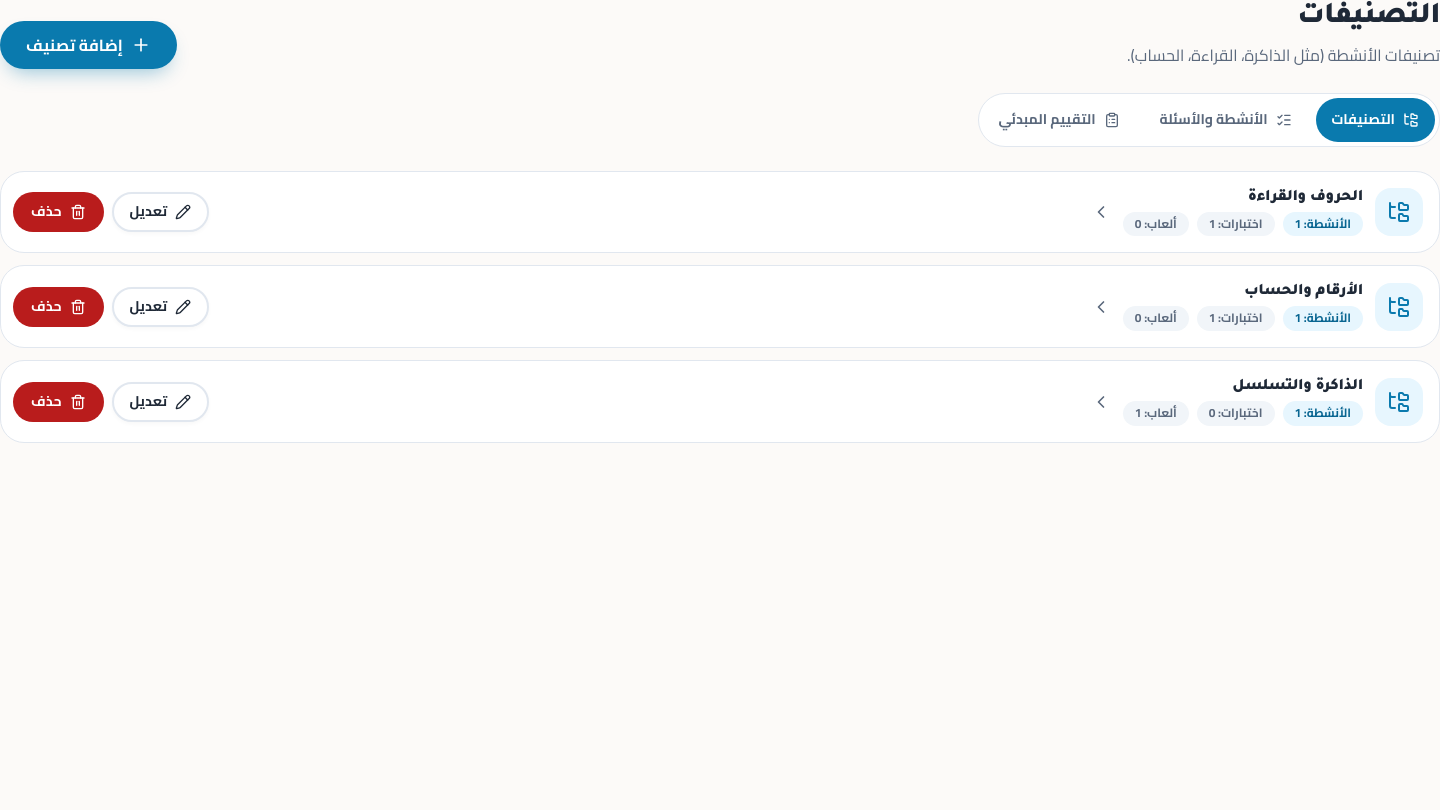
CategoriesPage › deletes only after confirmation
Step 1. Click the button with aria-label "حذف التصنيف الذاكرة والتسلسل" → (58, 402), box [13, 382, 104, 422]
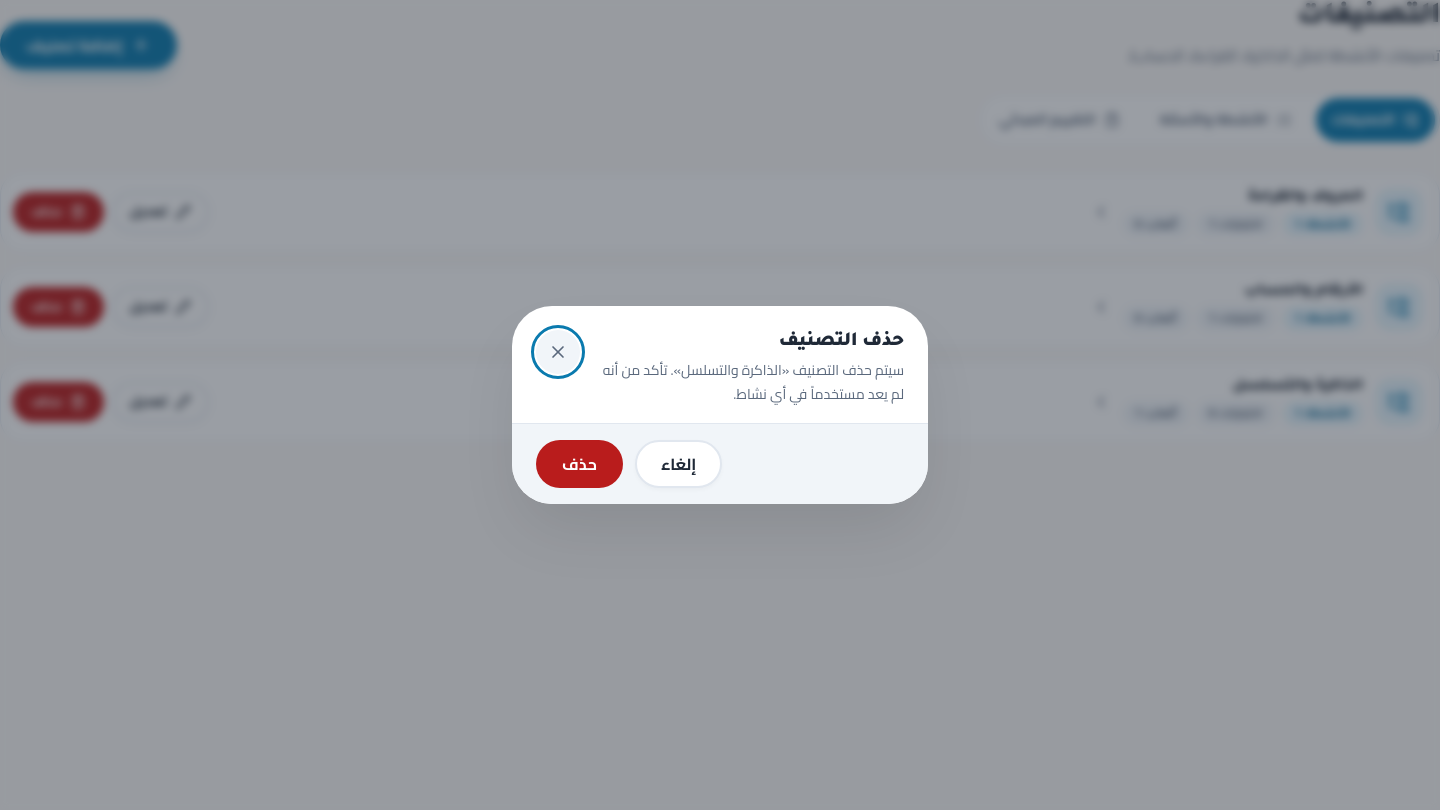
Step 2. Click the button "إلغاء" → (679, 464), box [635, 440, 722, 488]
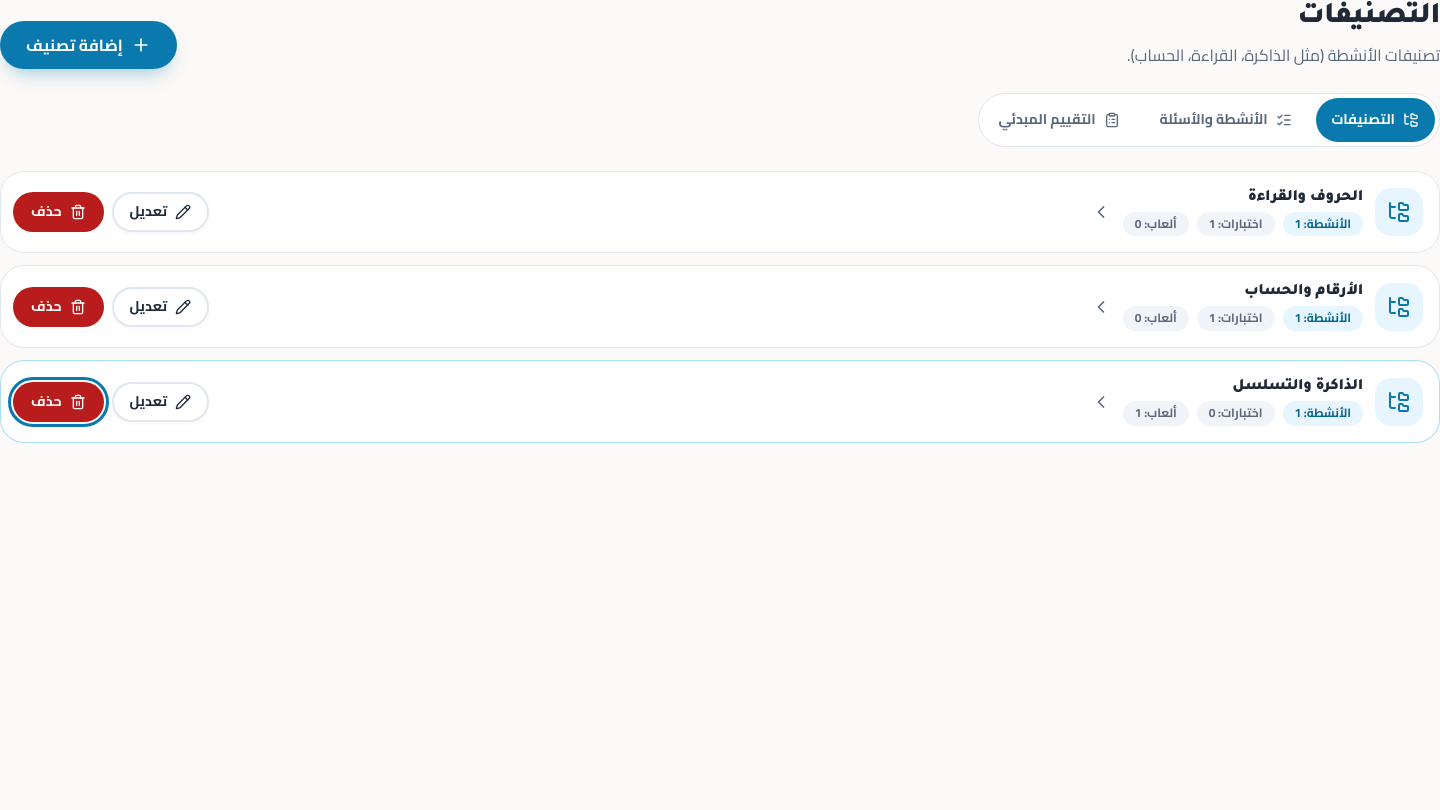
Expected: the heading "الذاكرة والتسلسل" is shown, [1232, 379, 1363, 395]
Step 3. Click the button with aria-label "حذف التصنيف الذاكرة والتسلسل" → (58, 402), box [13, 382, 104, 422]
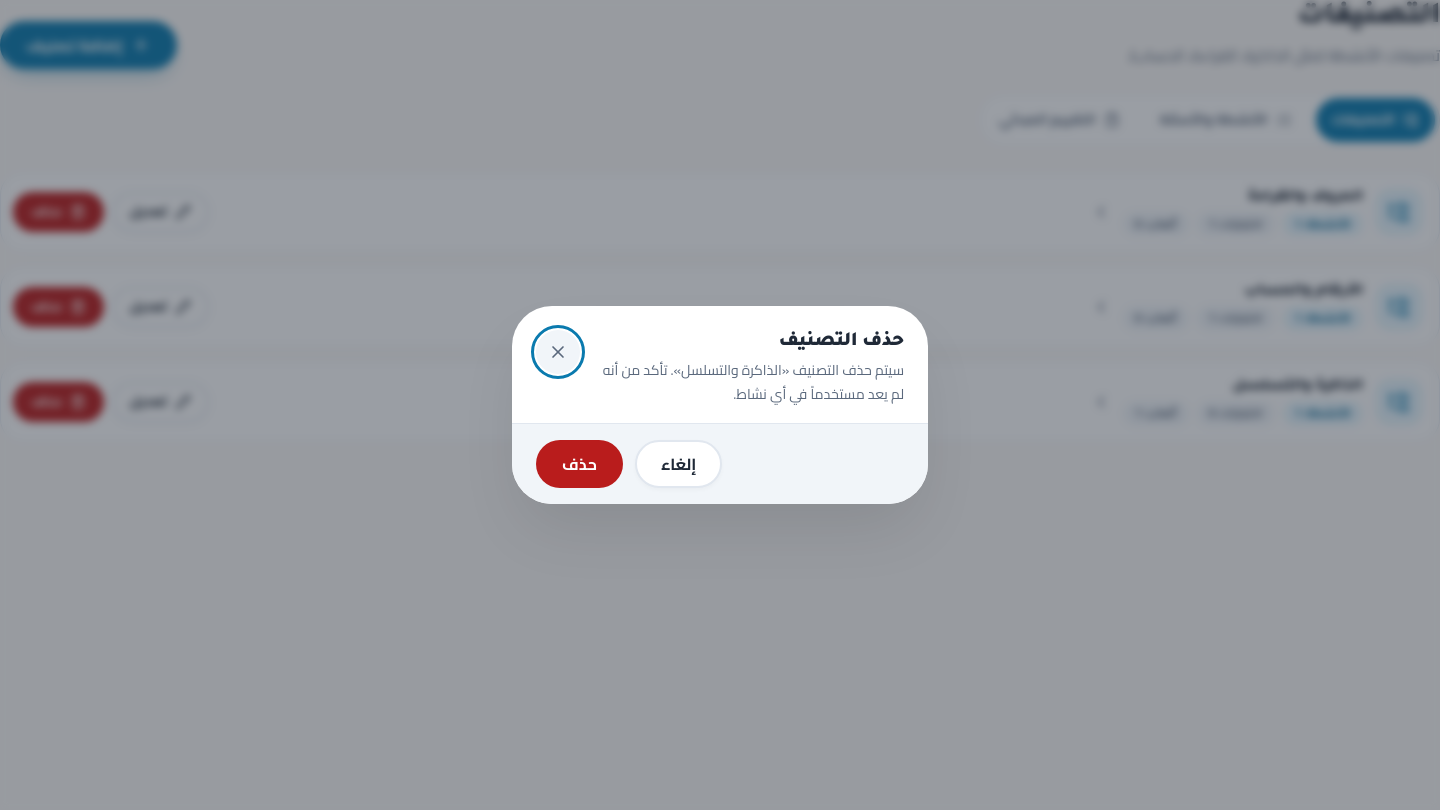
Step 4. Click the button "حذف" → (579, 464), box [536, 440, 623, 488]
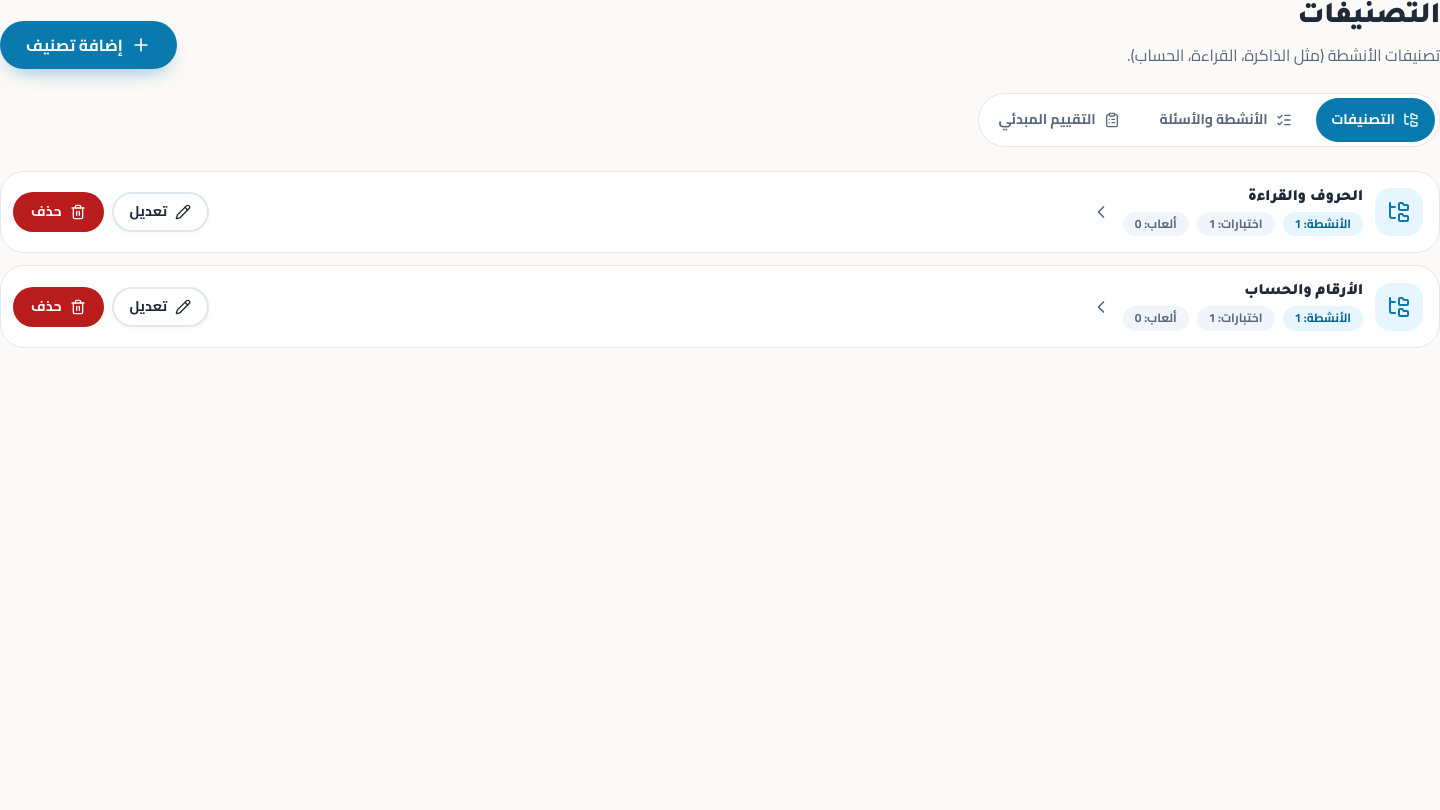
Result: the link "الذاكرة والتسلسل" is gone
